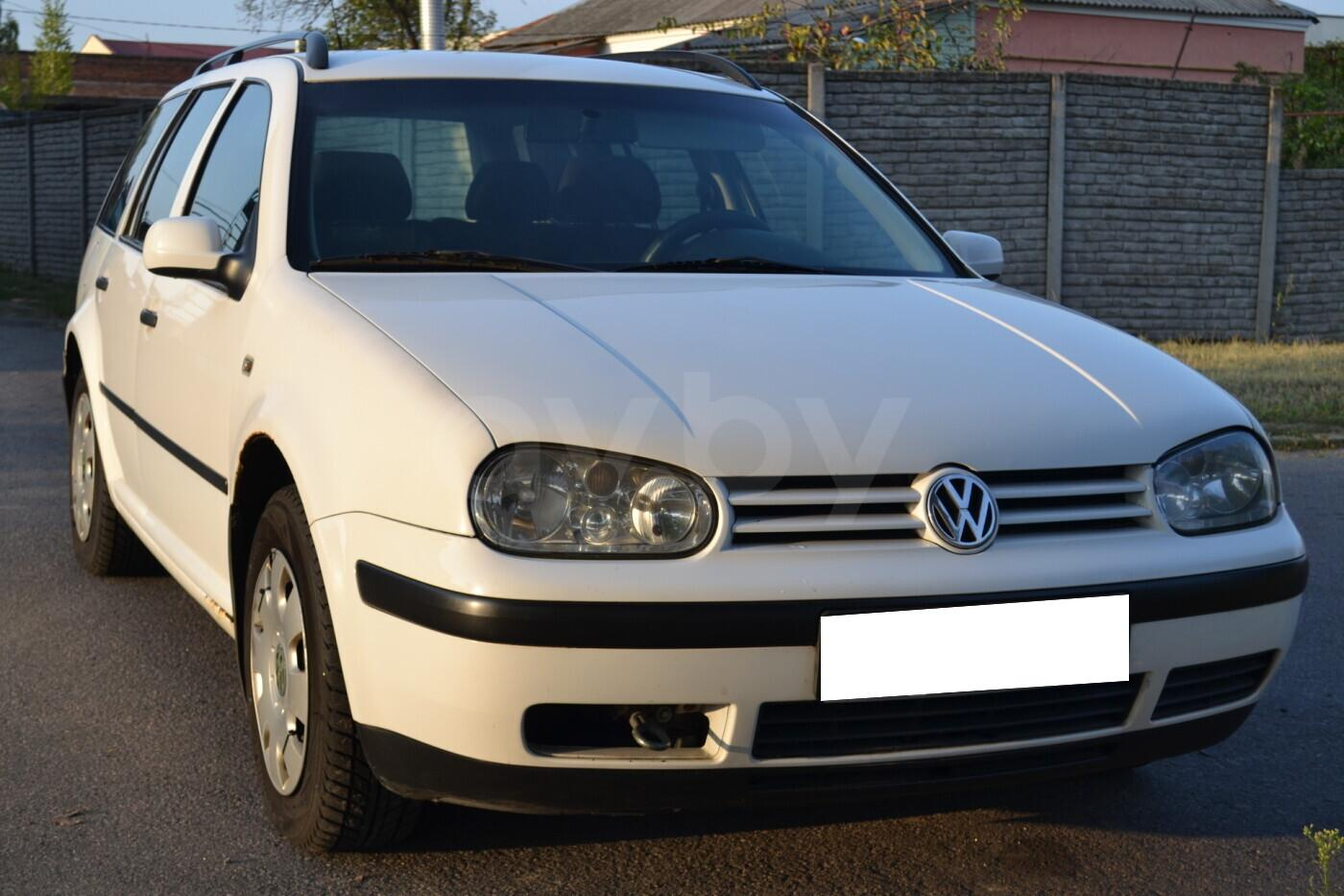Golf_1997-2006: (56, 44, 1311, 819)
